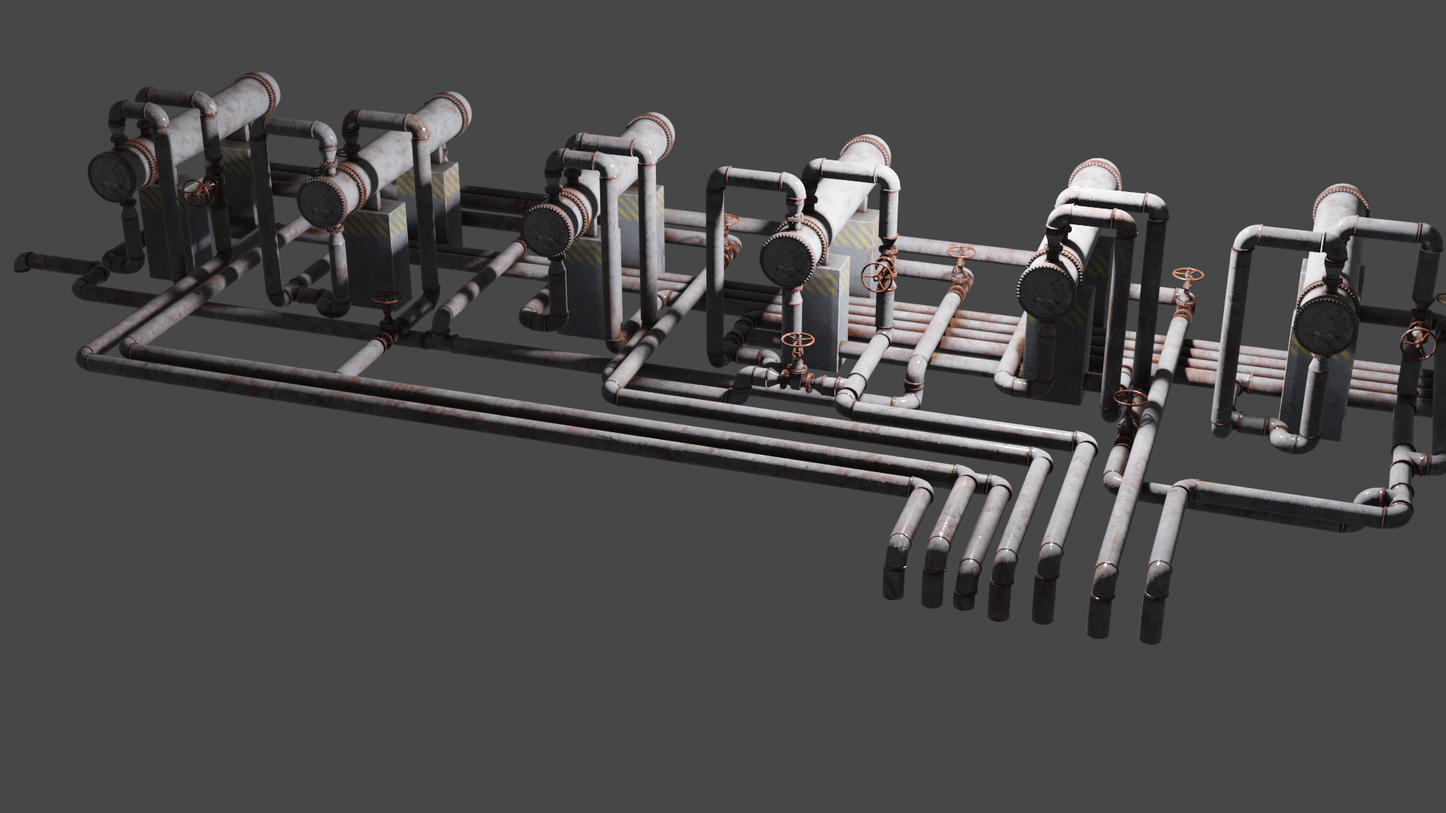HE_1: (88, 74, 280, 201)
HE_2: (298, 93, 472, 226)
HE_3: (519, 111, 677, 254)
HE_4: (761, 137, 893, 286)
HE_5: (1020, 155, 1122, 322)
HE_6: (1289, 182, 1366, 351)
